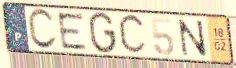5: (149, 16, 175, 57)
C: (26, 7, 59, 52), (117, 12, 148, 58)
E: (55, 11, 90, 51)
G: (88, 10, 118, 55)
N: (176, 18, 210, 59)
